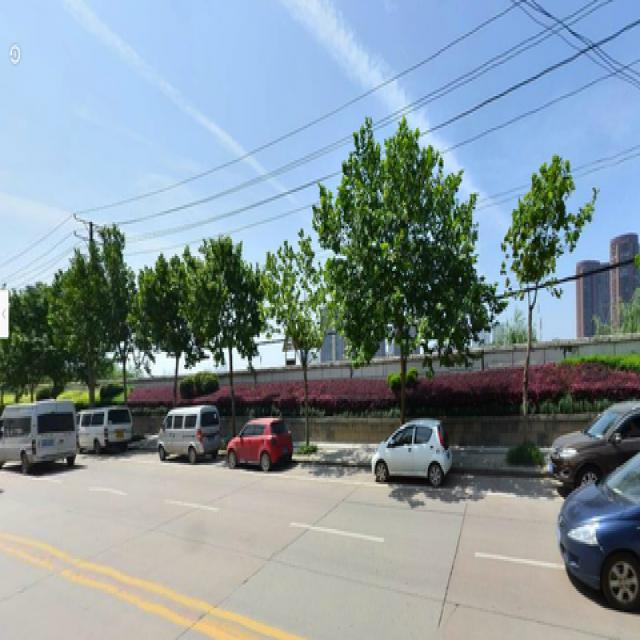meta: (346, 141, 454, 431), (513, 162, 564, 420), (276, 237, 331, 444), (200, 249, 256, 426), (100, 237, 143, 416), (147, 262, 196, 408)
